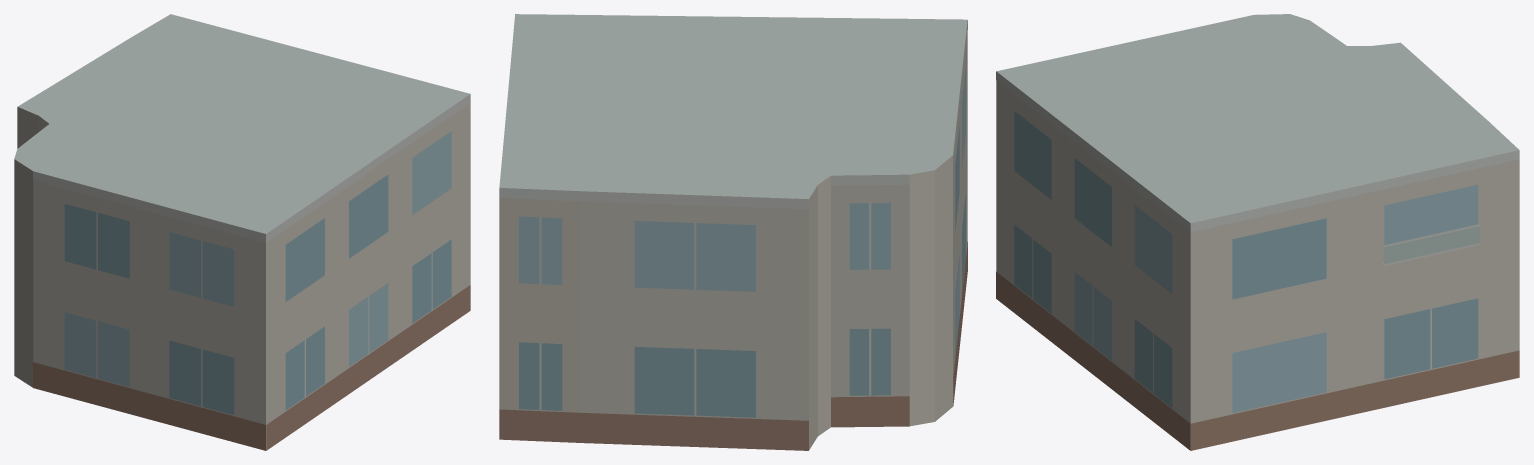
Rendered from survey-upis-32978359.glb.
3 views of the same model, side by side, from view 1: azimuth 30°, elevation 25°; view 2: azimuth 150°, elevation 25°; view 3: azimuth 270°, elevation 25° (orthographic). The views are drawn at different scales.
Visible parts, largest first — view 1: survey-upis-32978359.tmp; view 2: survey-upis-32978359.tmp; view 3: survey-upis-32978359.tmp.
Part boxes in pixels (x1,y1,x2,y2): survey-upis-32978359.tmp: (14,14,470,450); survey-upis-32978359.tmp: (499,14,967,450); survey-upis-32978359.tmp: (996,14,1519,450).
Bounding box in the file's own units: 12.05 × 6.1 × 12.73.
